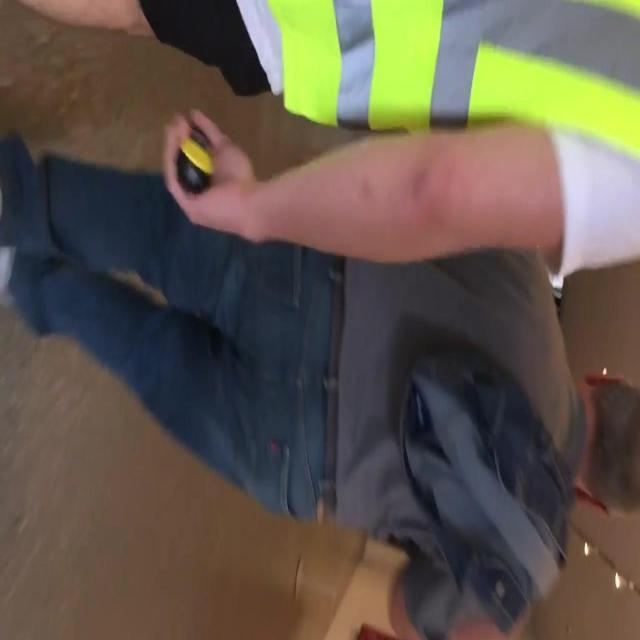Vest: (267, 1, 639, 161)
